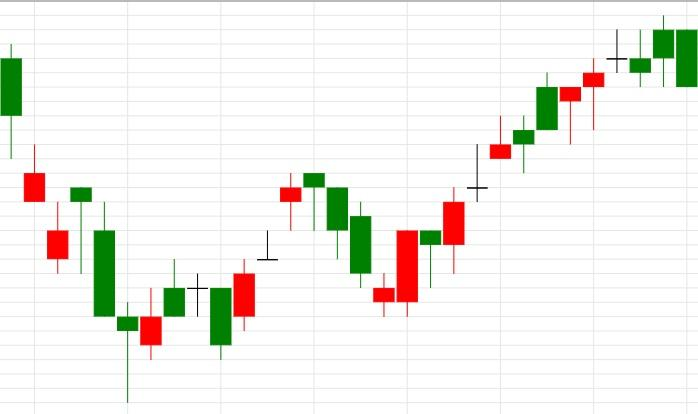hanging_man_fall: (373, 72, 582, 316), (209, 173, 326, 360), (372, 230, 442, 317)
